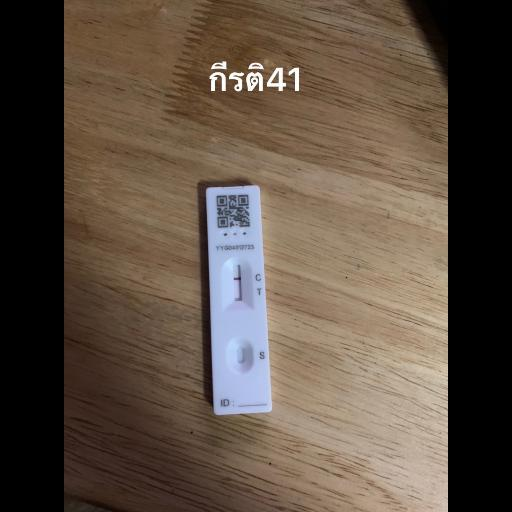Neg: (204, 185, 272, 415)
